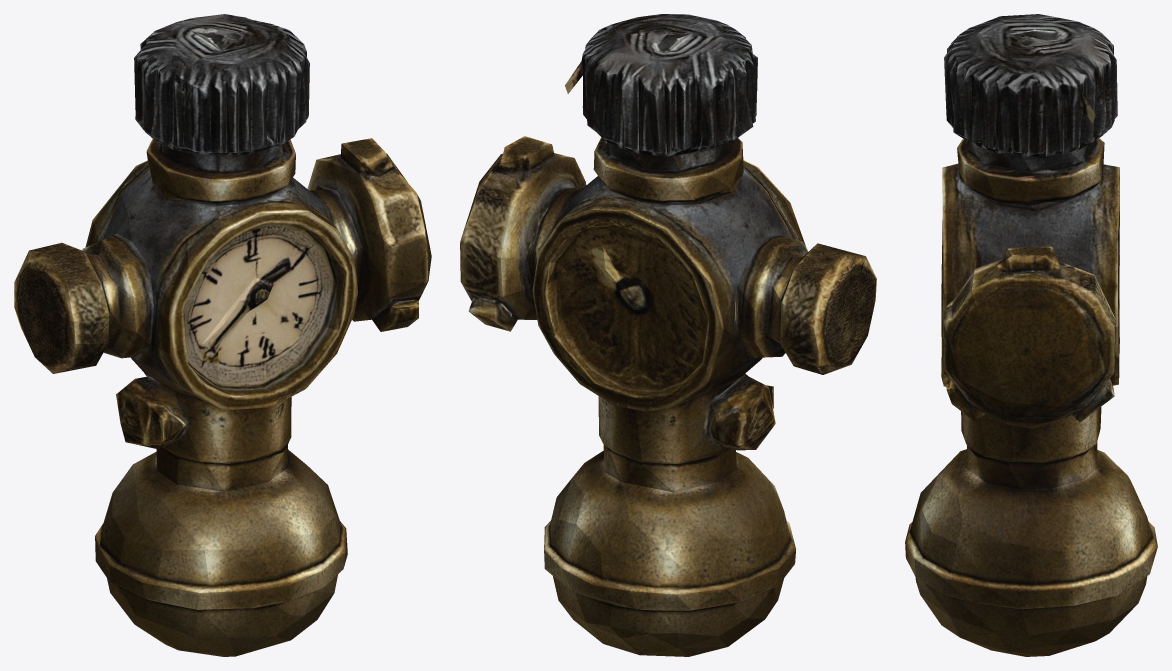
3 views of the same model, side by side, from view 1: azimuth 30°, elevation 25°; view 2: azimuth 150°, elevation 25°; view 3: azimuth 270°, elevation 25° (orthographic).
Parts seen in each view (by area): view 1: geometry_0; view 2: geometry_0; view 3: geometry_0.
Part boxes in pixels (x1=…): geometry_0: x1=14, y1=14, x2=431, y2=656; geometry_0: x1=460, y1=14, x2=876, y2=656; geometry_0: x1=905, y1=14, x2=1157, y2=656.
Size of the model in its own units: 0.6238 by 1 by 0.3765.
Materials: 1 (1 with a texture image).
